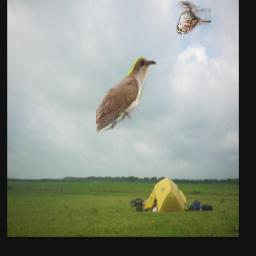Cuckoo: (97, 56, 159, 133)
Sparrow: (176, 2, 211, 35)
